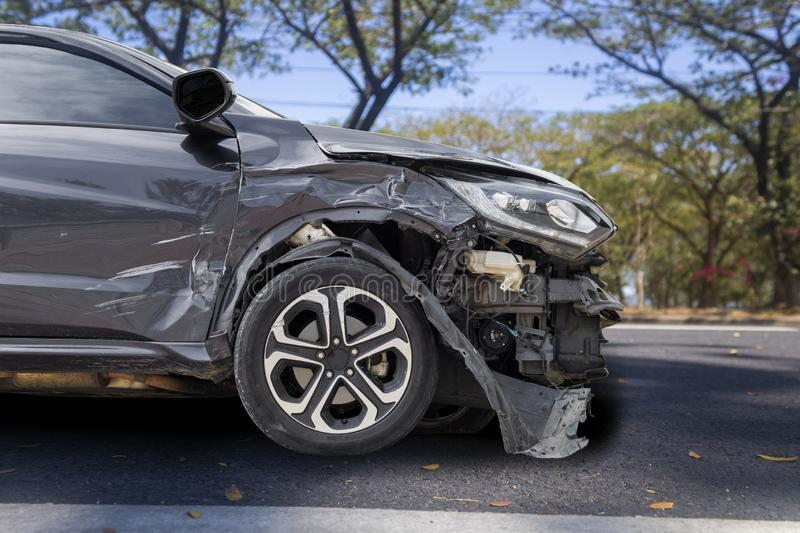doorouter-dent: (0, 122, 222, 344)
fender-dent: (236, 135, 459, 265)
front-bumper-dent: (464, 254, 643, 431)
